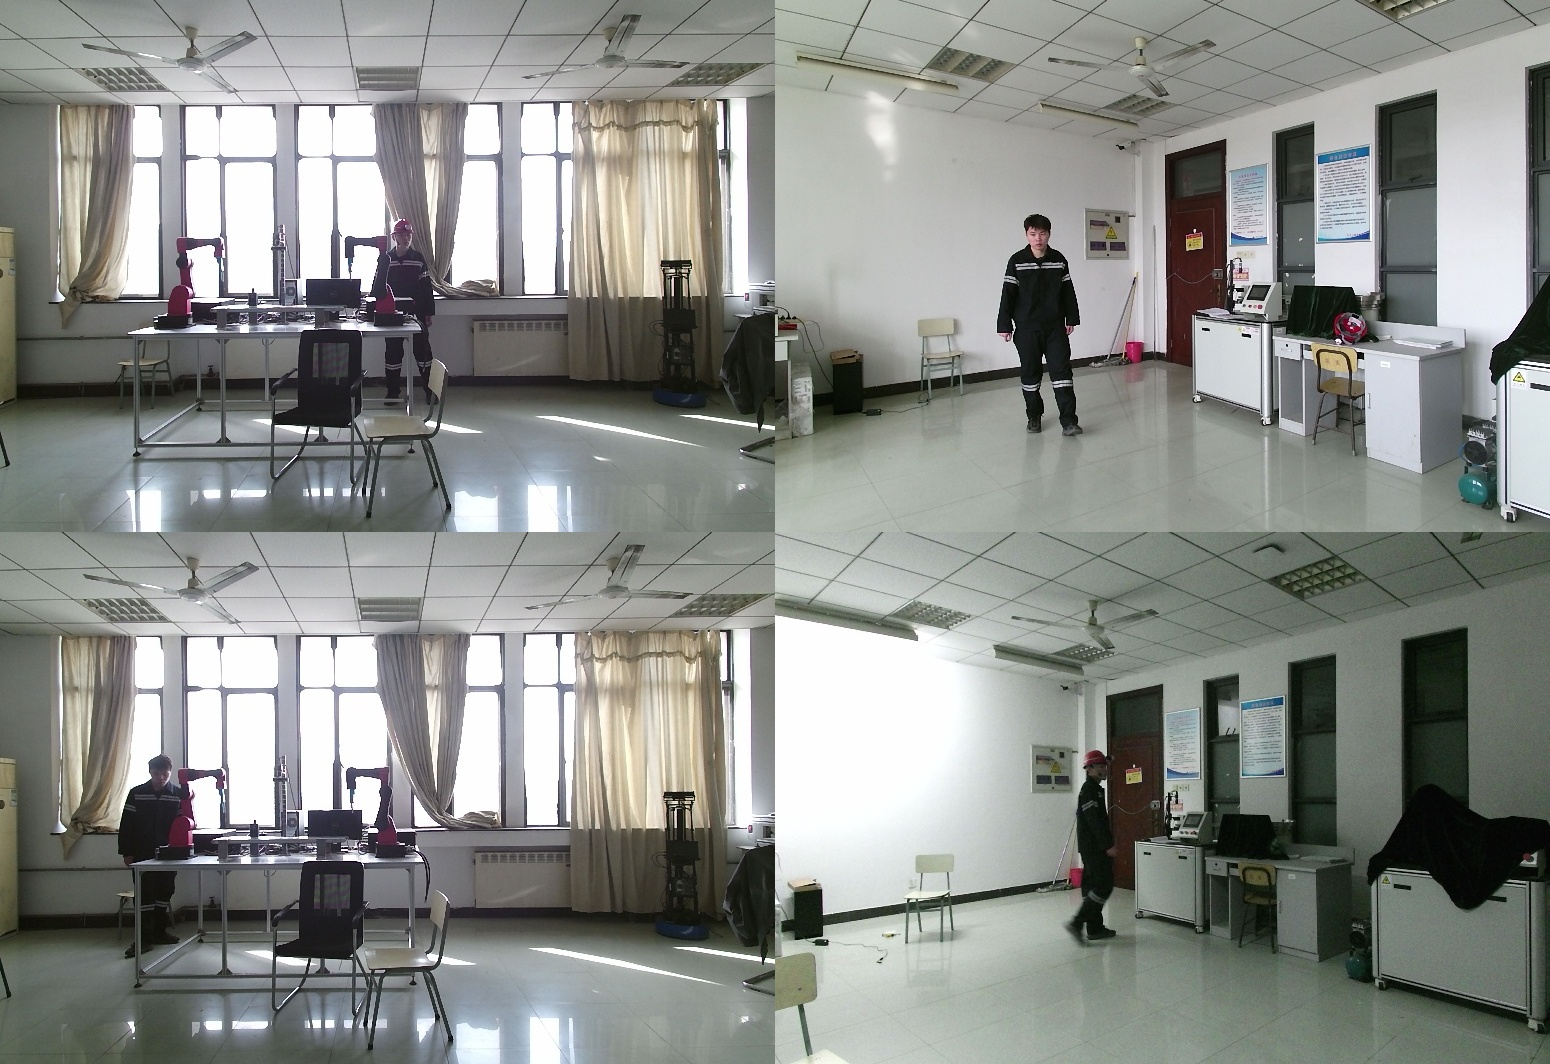person: (992, 215, 1095, 447), (116, 755, 188, 960), (368, 219, 437, 406), (1055, 752, 1119, 953)
